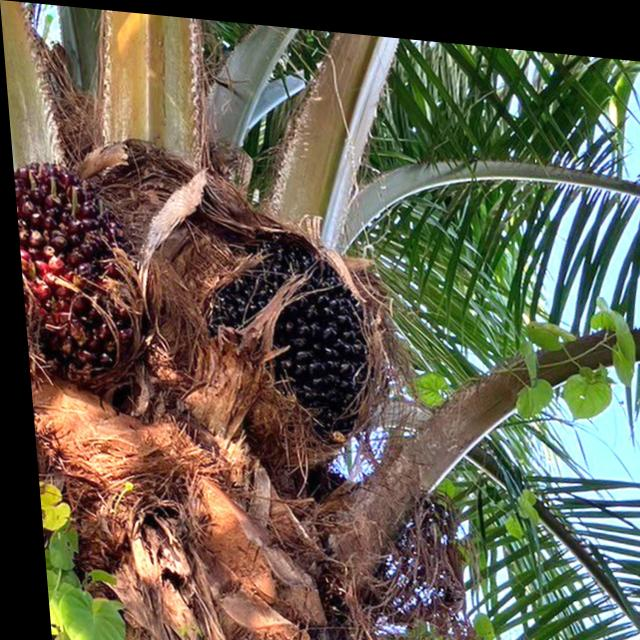almost: (186, 218, 381, 447)
